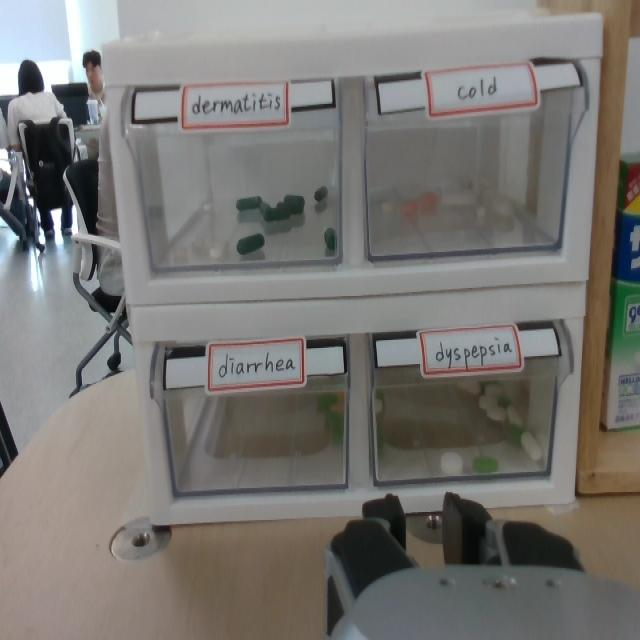text: (189, 86, 284, 120), (430, 334, 514, 368), (216, 349, 300, 380), (452, 74, 502, 104)
